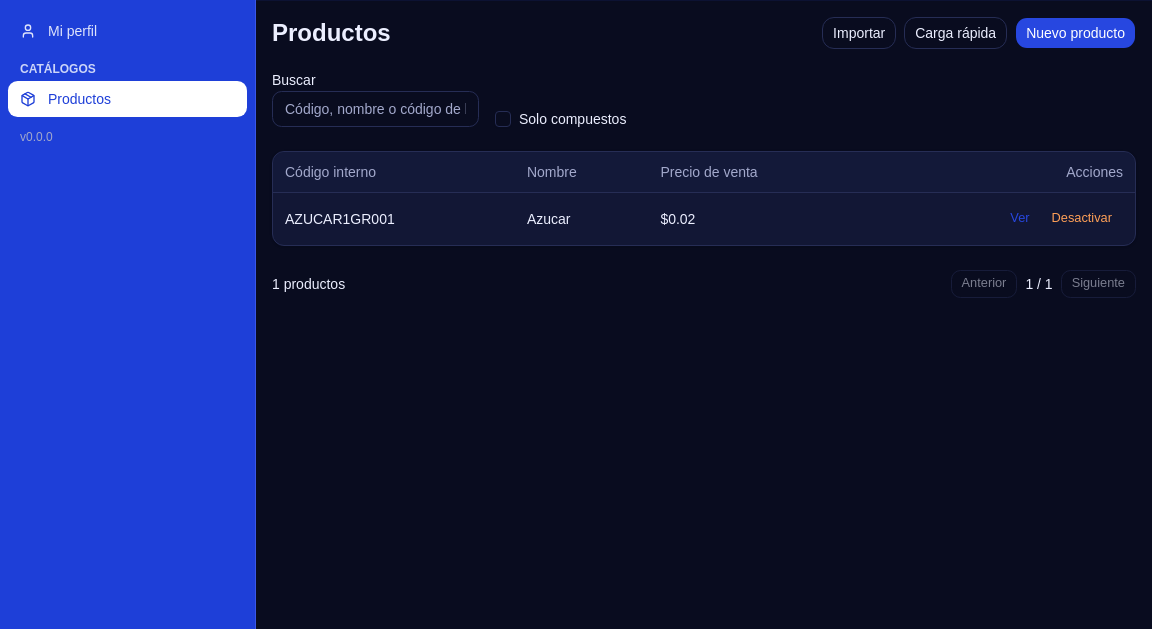
Borrar un producto (F2-PROD) › cancelar cierra el diálogo y no borra nada
Click the button "Ver " at point(1020, 218), box [999, 204, 1040, 232]
(page scrolled)
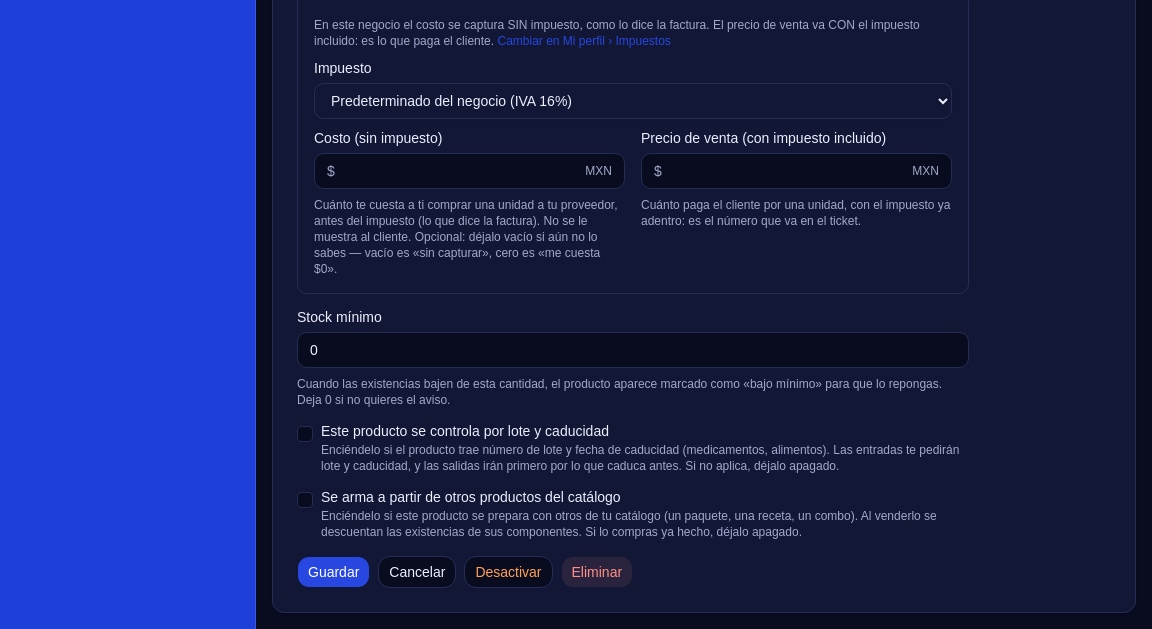
Click the button "Eliminar" at point(597, 572), box [560, 556, 633, 588]
(page scrolled)
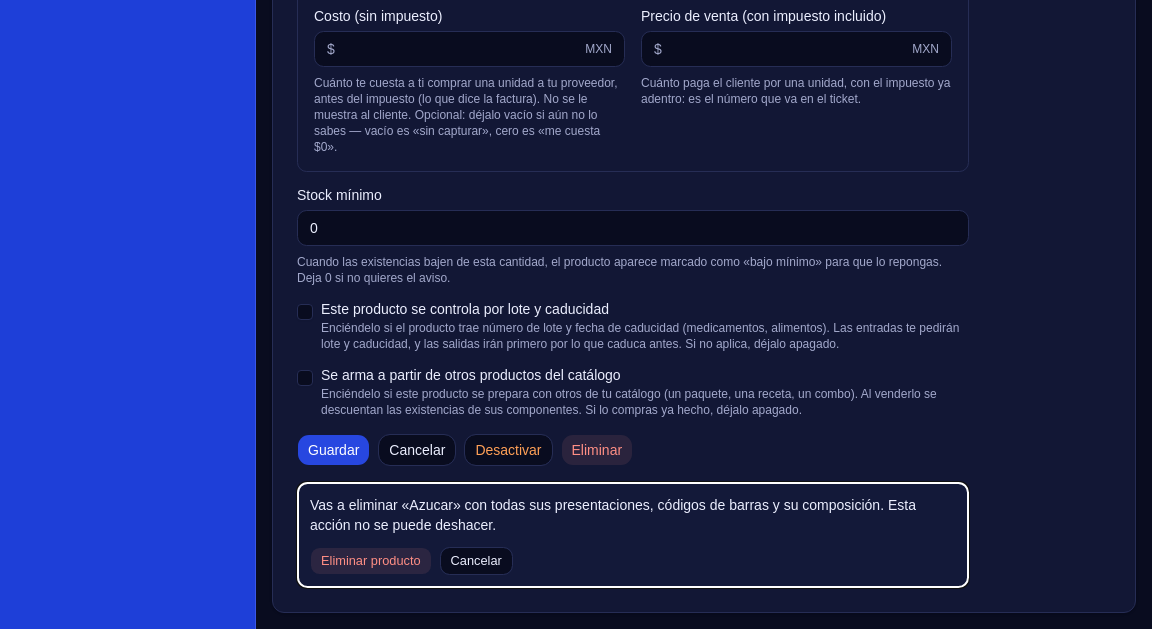
Click the 2nd button "Cancelar" at point(476, 561), box [440, 547, 513, 575]
(page scrolled)
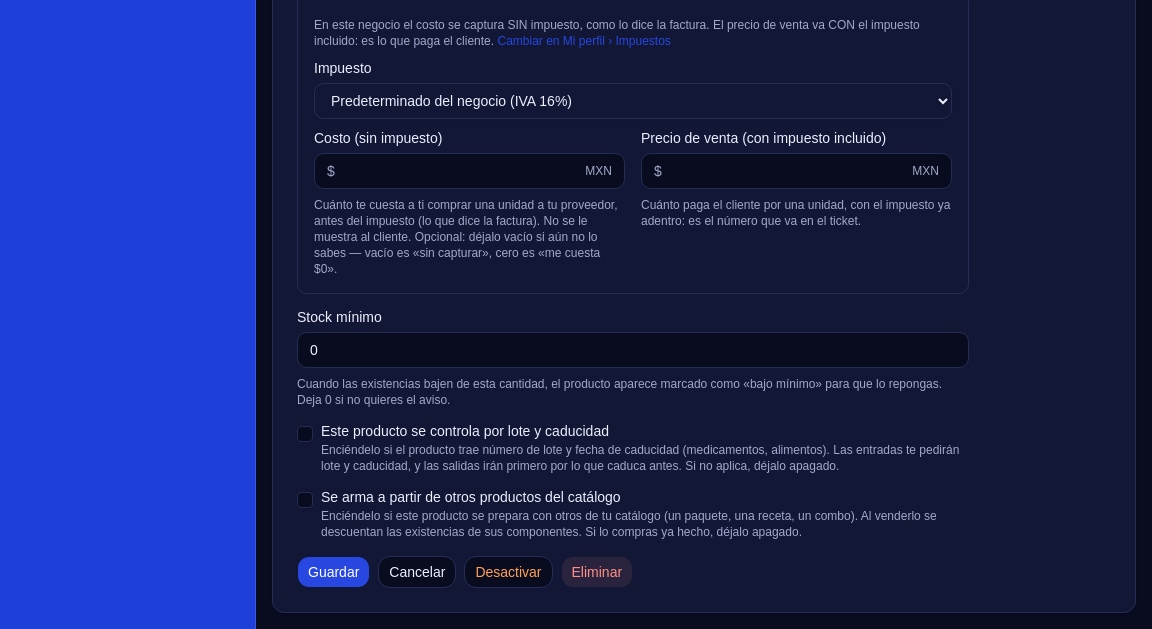
Expected: the dialog with test id "remove-product-dialog" is gone
